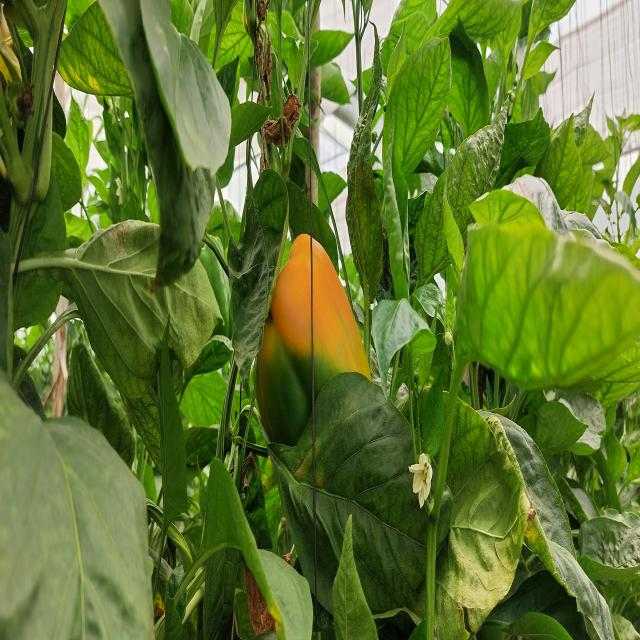GreenishYellow--Can-be-Harvested: (247, 224, 395, 504)
